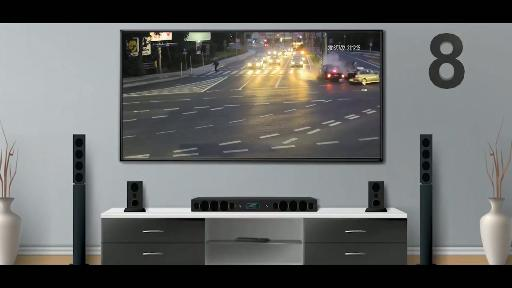Accident: (115, 30, 382, 134)
Accident-fire-smoke: (101, 28, 388, 139)
